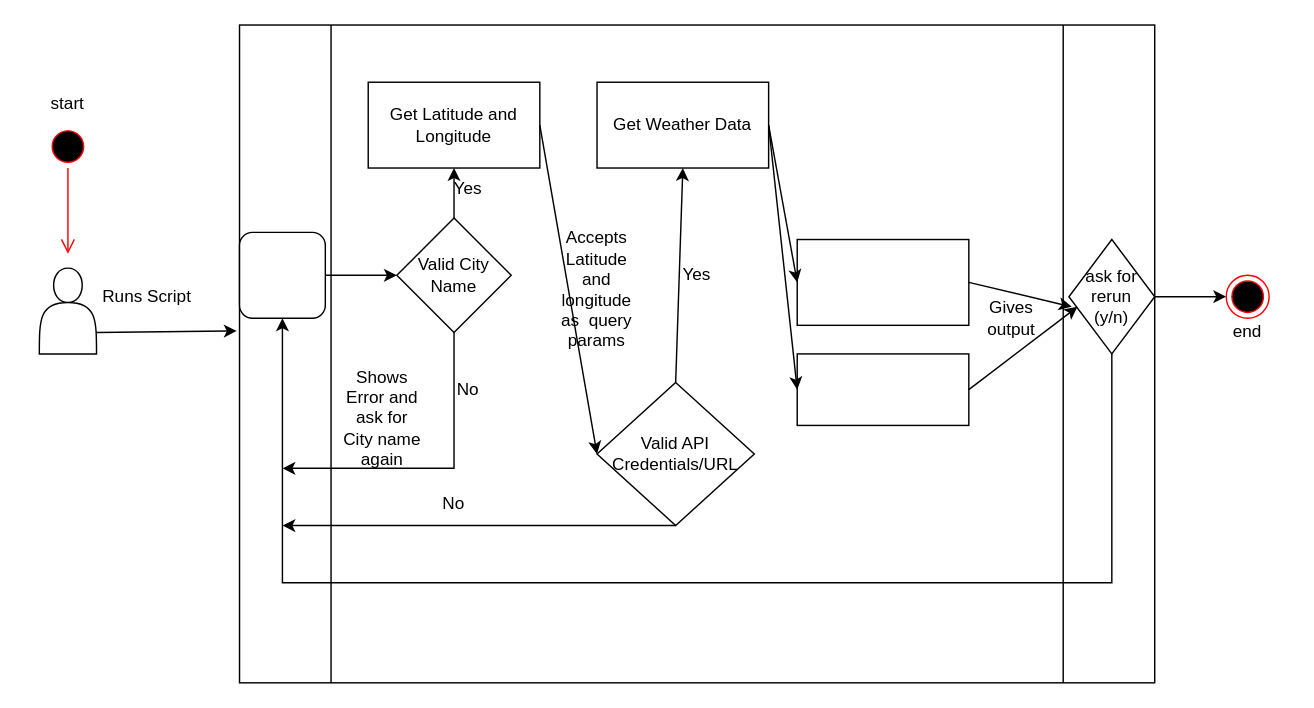
The diagram is 1314 pixels wide and 708 high, and some of its shapes have lost their labels. Each missing label, with the box of its shape:
Parse Location Data: (796, 238, 969, 325)
Parse Weather Data: (796, 352, 969, 425)
Provides City Name: (238, 231, 325, 318)
